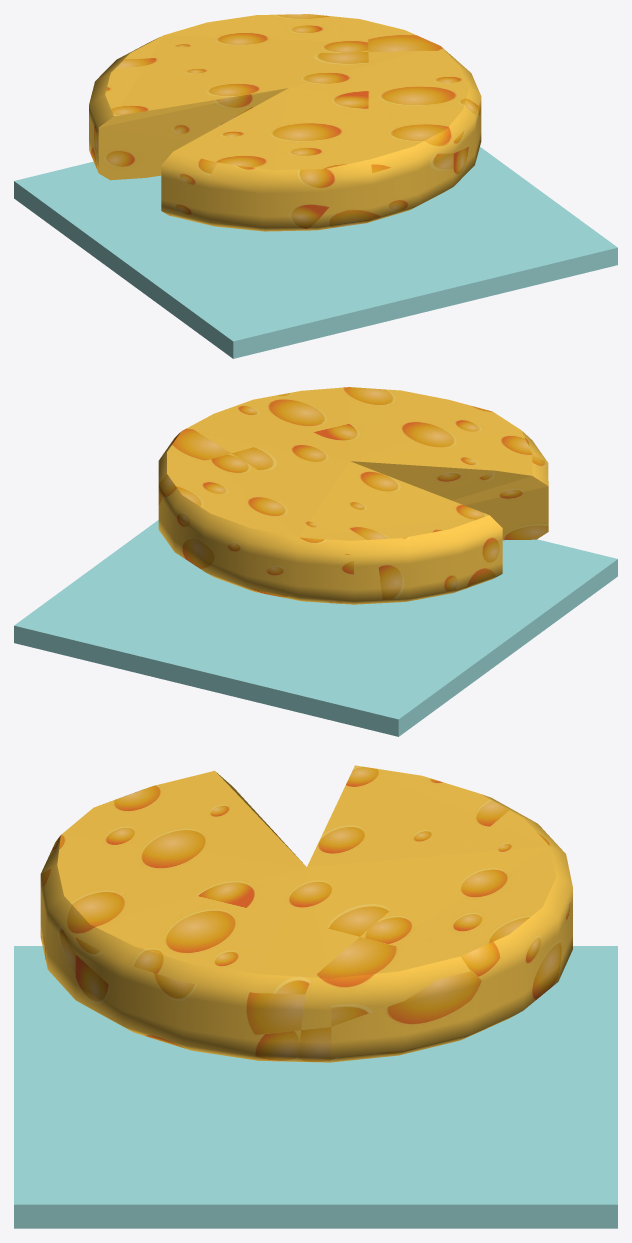
File: queso.DAE
The picture shows the model from 3 angles, top to bottom: view 1: azimuth 30°, elevation 25°; view 2: azimuth 150°, elevation 25°; view 3: azimuth 270°, elevation 25°; orthographic projection. The views are drawn at different scales.
Parts seen in each view (by area): view 1: Cylinder002, Box001; view 2: Cylinder002, Box001; view 3: Cylinder002, Box001.
Part boxes in pixels (x1,y1,x2,y2): Cylinder002: (89,14,481,231); Box001: (14,147,617,358); Cylinder002: (158,387,548,604); Box001: (14,520,617,736); Cylinder002: (40,765,572,1062); Box001: (14,946,617,1228).
Bounding box in the file's own units: 132 × 127 × 49.09.
Materials: 2 (1 with a texture image).
